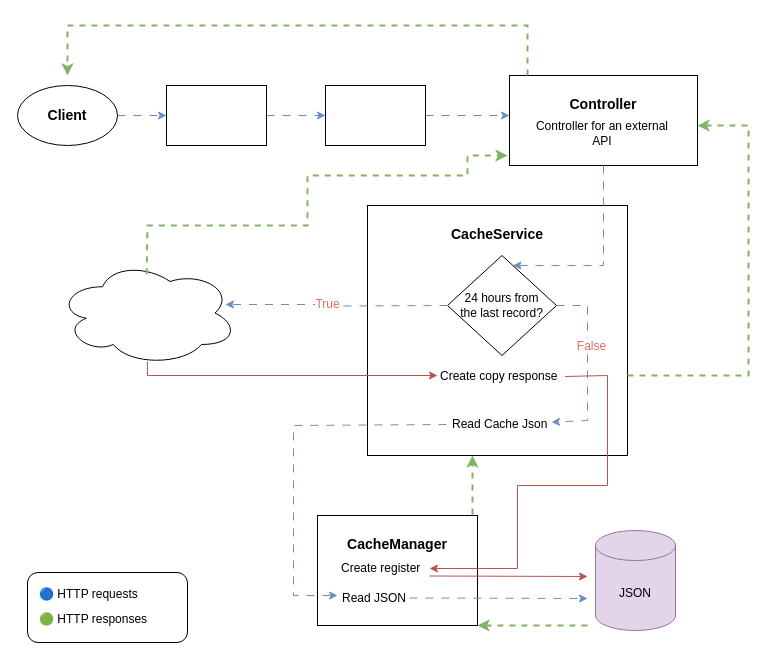
The diagram is 775 pixels wide and 660 high, and some of its shapes have lost their labels. Each missing label, with the centre of its shape:
"External API" goes at (x=147, y=313).
"index.js" goes at (x=216, y=115).
"Router" goes at (x=375, y=115).
